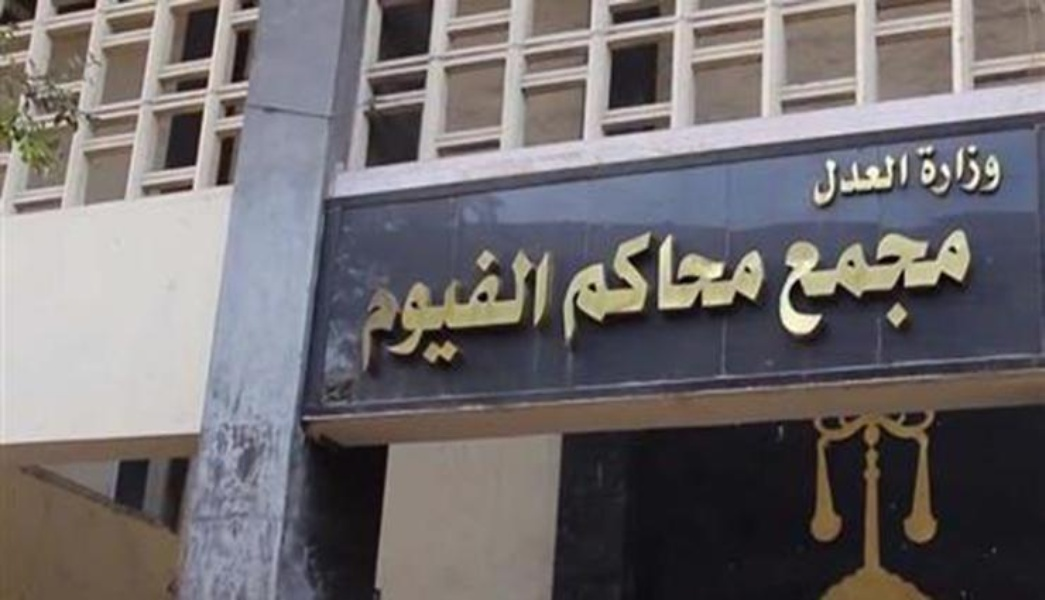text: (753, 217, 769, 348), (369, 242, 384, 380), (385, 242, 400, 380), (401, 242, 416, 380), (417, 242, 432, 380), (433, 242, 448, 380), (449, 242, 464, 380), (465, 242, 480, 380), (481, 242, 496, 380), (497, 242, 512, 380), (513, 242, 528, 380), (529, 242, 544, 380), (561, 217, 576, 348), (577, 217, 592, 348), (593, 217, 608, 348), (609, 217, 624, 348), (625, 217, 640, 348), (641, 217, 656, 348), (657, 217, 672, 348), (673, 217, 688, 348), (689, 217, 704, 348), (705, 217, 720, 348), (721, 217, 736, 348), (737, 217, 752, 348), (354, 242, 368, 380), (785, 222, 800, 341), (801, 222, 816, 341), (817, 222, 832, 341), (833, 222, 848, 341), (849, 222, 864, 341), (865, 222, 880, 341), (881, 222, 896, 341), (897, 222, 912, 341), (913, 222, 928, 341), (929, 222, 944, 341), (945, 222, 960, 341), (961, 222, 975, 341), (545, 242, 555, 380), (897, 147, 913, 209), (817, 147, 832, 209), (833, 147, 848, 209), (849, 147, 864, 209), (865, 147, 880, 209), (881, 147, 896, 209), (913, 139, 928, 198), (929, 139, 944, 198), (945, 139, 960, 198), (961, 139, 976, 198), (977, 139, 992, 198), (993, 139, 1005, 198), (779, 222, 784, 341), (558, 217, 560, 348)
